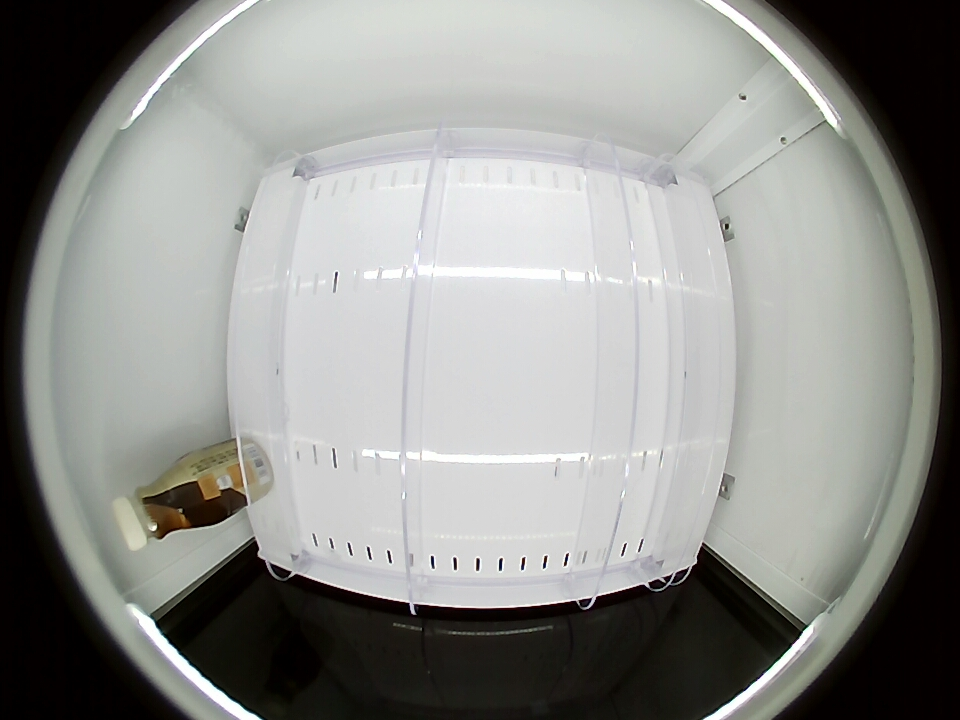kafei: (112, 471, 205, 550)
